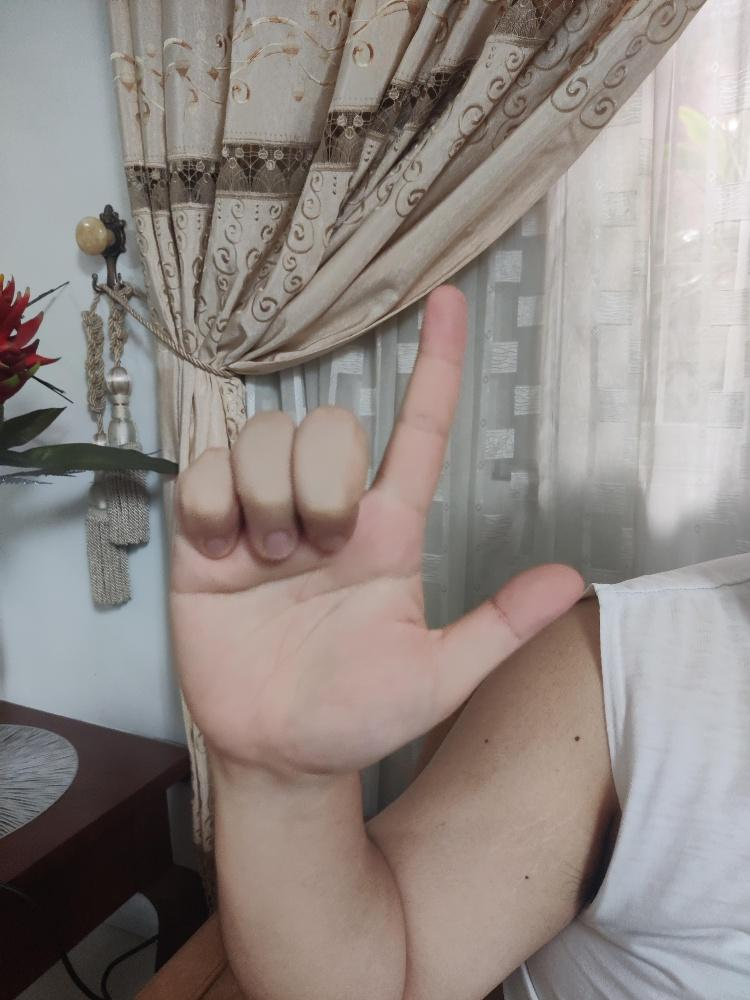l: (165, 280, 586, 773)
